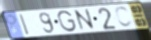2: (97, 6, 119, 31)
9: (39, 12, 55, 34)
C: (114, 5, 135, 29)
G: (57, 10, 78, 33)
I: (18, 13, 32, 37)
N: (72, 7, 98, 33)
